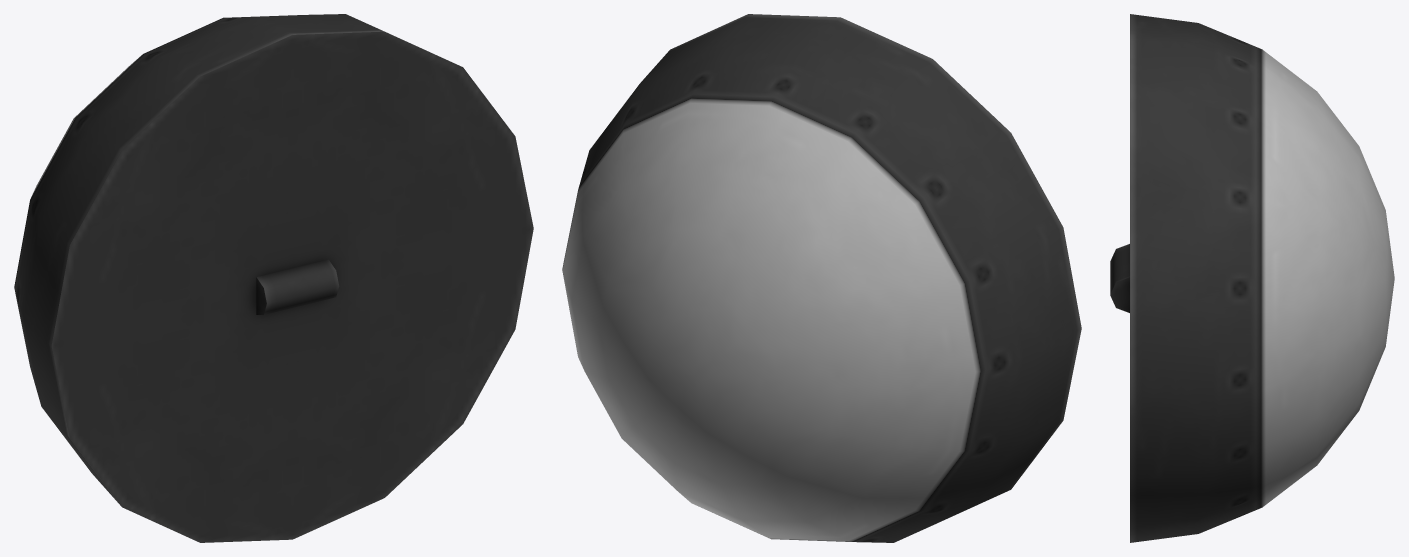
File: 3mv solar dome.obj
3 renders of one model, left to right at view 1: azimuth 30°, elevation 25°; view 2: azimuth 150°, elevation 25°; view 3: azimuth 270°, elevation 25°, orthographic. The views are drawn at different scales.
Visible parts, largest first — view 1: dome; view 2: dome; view 3: dome.
Part boxes in pixels (bbox=[...]): dome: bbox=[14, 14, 533, 542]; dome: bbox=[562, 14, 1081, 542]; dome: bbox=[1110, 14, 1394, 542].
Size of the model in its own units: 0.5 by 0.5 by 0.2688.
Materials: 1 (1 with a texture image).
